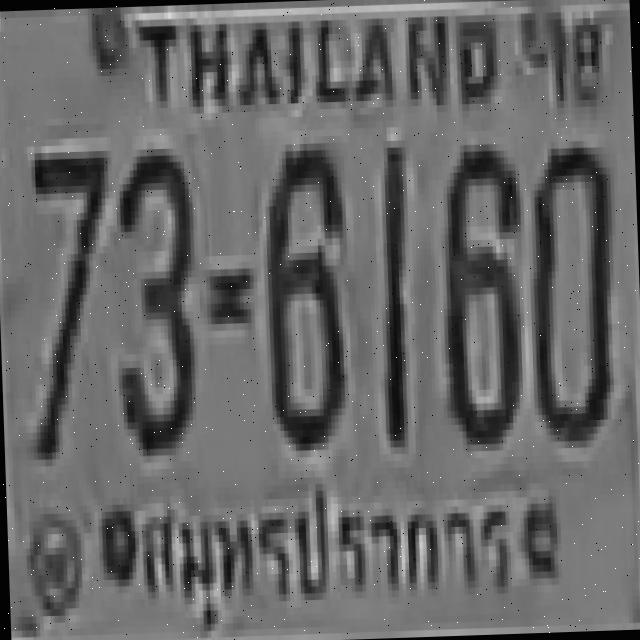0: (523, 136, 617, 438)
1: (376, 140, 412, 440)
3: (110, 141, 197, 450)
6: (259, 136, 346, 444), (438, 136, 524, 438)
7: (24, 144, 116, 452)
SamutPrakan: (128, 468, 530, 634)
